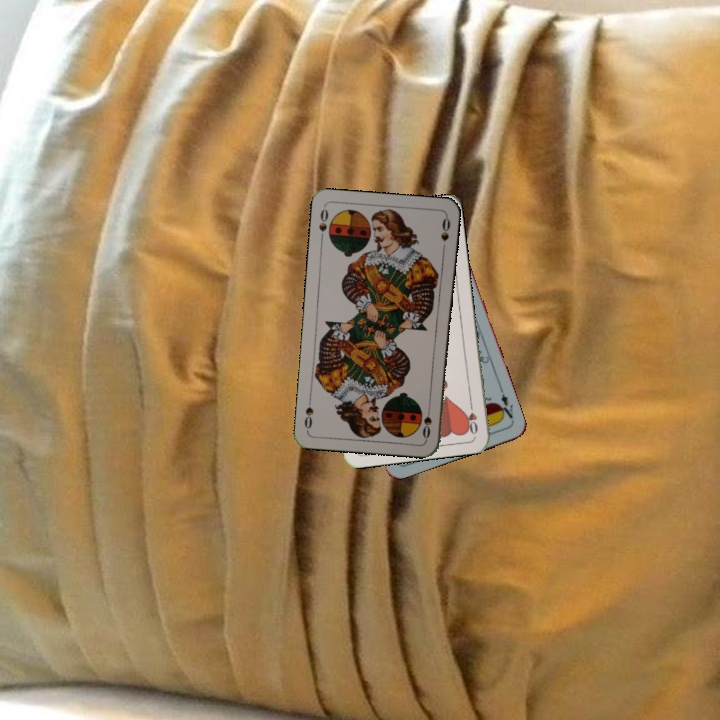EA: (493, 385, 516, 424)
HO: (463, 397, 480, 437)
SO: (418, 401, 434, 441), (315, 205, 331, 244)
